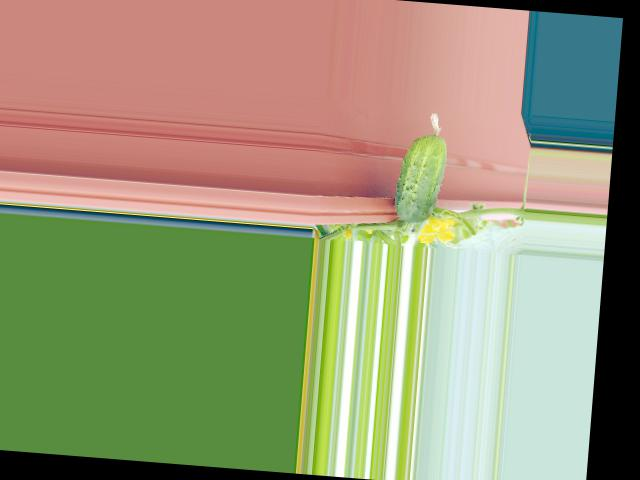cucumber: (393, 109, 450, 225)
